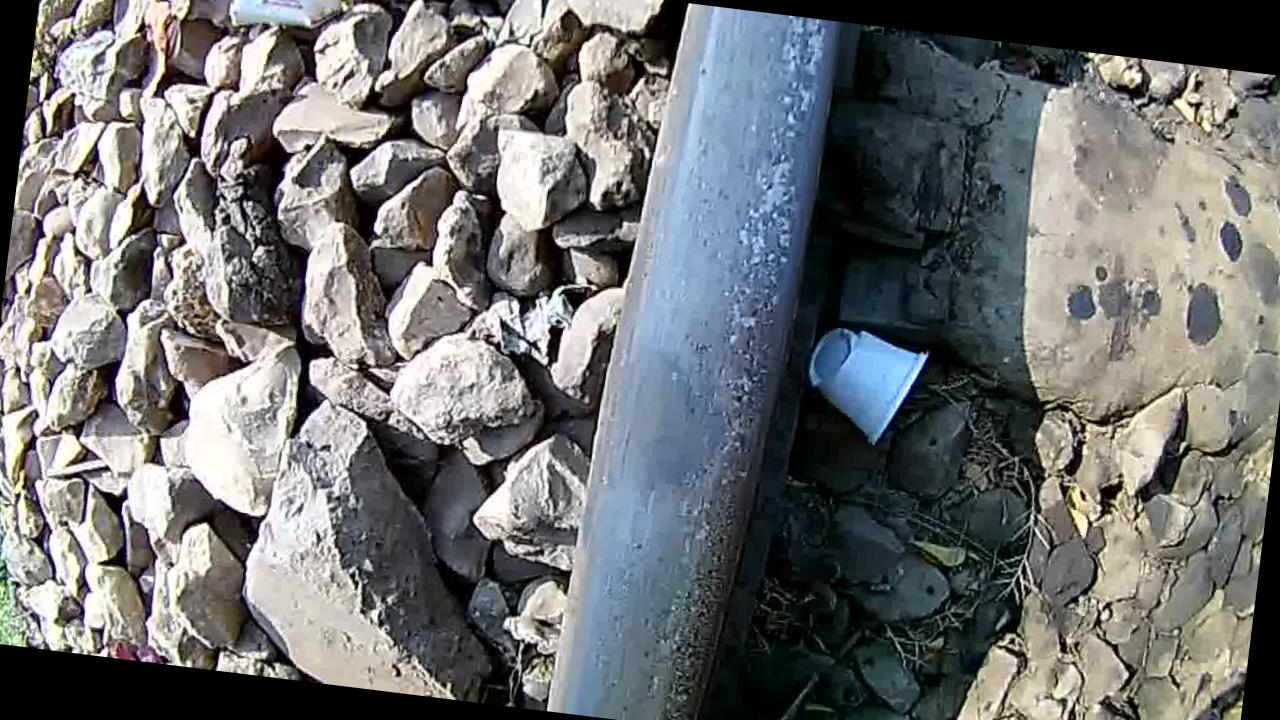bolt_missing: (575, 268, 787, 578)
